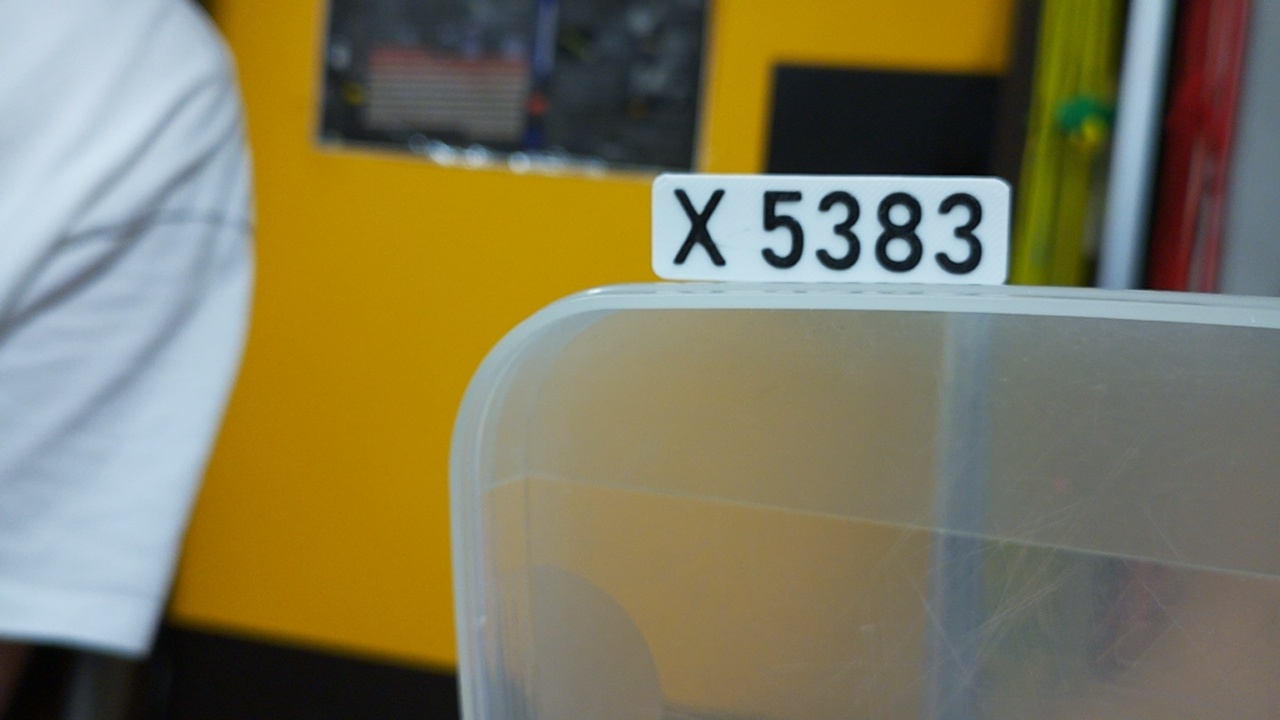license_plate: (646, 163, 1013, 288)
